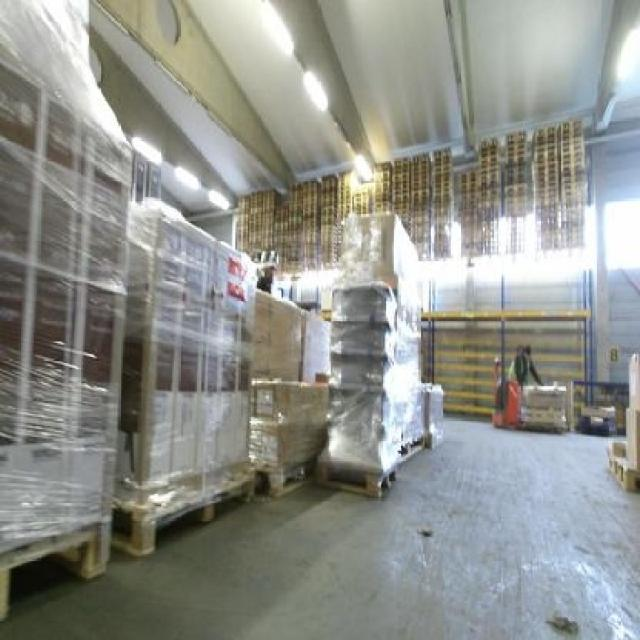floor: (0, 417, 637, 637)
pallets: (112, 197, 251, 552), (315, 212, 440, 494)
